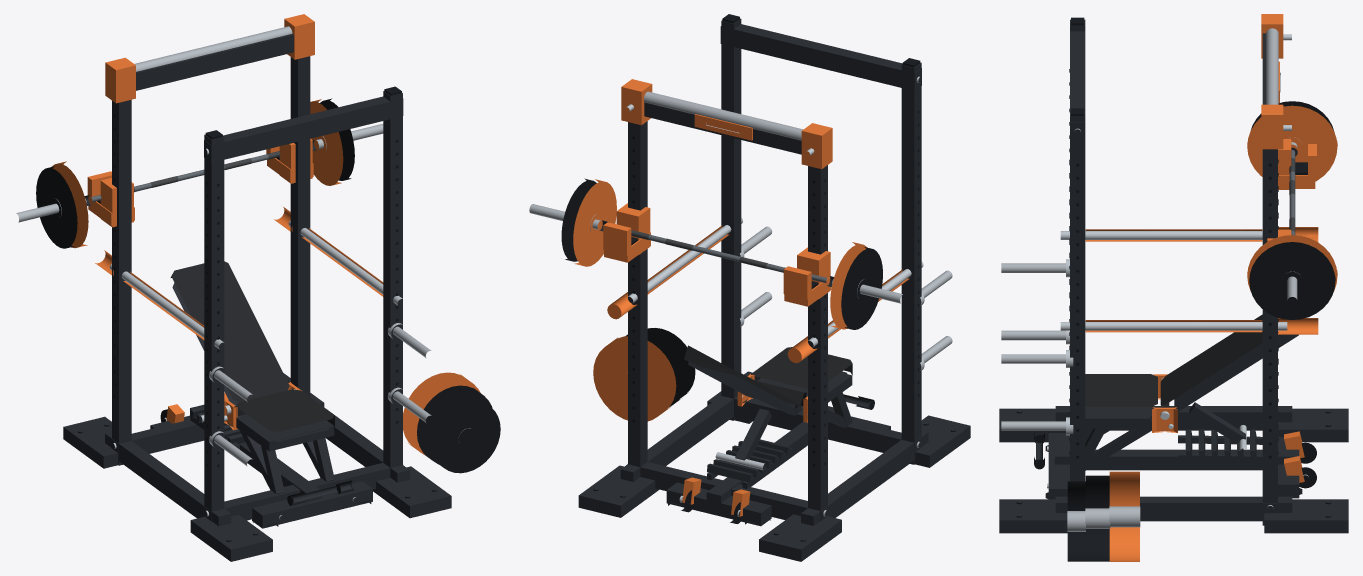
File: strength-station-composition.glb
The picture shows the model from 3 angles, left to right: view 1: azimuth 30°, elevation 25°; view 2: azimuth 150°, elevation 25°; view 3: azimuth 270°, elevation 25°; orthographic projection. The views are drawn at different scales.
Visible parts, largest first — view 1: Graphite powder coat parts, Safety orange parts, Black rubber and UHMW parts, Charcoal upholstery parts, Brushed steel parts, Zinc hardware parts; view 2: Graphite powder coat parts, Safety orange parts, Black rubber and UHMW parts, Brushed steel parts, Charcoal upholstery parts, Zinc hardware parts, Dark chrome shaft parts; view 3: Graphite powder coat parts, Safety orange parts, Black rubber and UHMW parts, Brushed steel parts, Charcoal upholstery parts, Zinc hardware parts.
Boxes of the visible parts, x1,y1,x2,y2 form: Graphite powder coat parts: [63, 33, 451, 561]; Safety orange parts: [51, 14, 480, 454]; Black rubber and UHMW parts: [36, 86, 500, 541]; Charcoal upholstery parts: [170, 261, 334, 431]; Brushed steel parts: [16, 26, 470, 466]; Zinc hardware parts: [110, 148, 402, 518]; Graphite powder coat parts: [578, 18, 970, 561]; Safety orange parts: [573, 79, 909, 516]; Black rubber and UHMW parts: [561, 14, 955, 541]; Brushed steel parts: [529, 91, 952, 372]; Charcoal upholstery parts: [684, 345, 852, 406]; Zinc hardware parts: [626, 76, 924, 516]; Dark chrome shaft parts: [648, 234, 827, 283]; Graphite powder coat parts: [999, 19, 1348, 533]; Safety orange parts: [1085, 14, 1337, 561]; Black rubber and UHMW parts: [1016, 17, 1335, 561]; Brushed steel parts: [1001, 28, 1301, 531]; Charcoal upholstery parts: [1085, 314, 1262, 407]; Zinc hardware parts: [1047, 34, 1308, 508].
Size of the model in its own units: 2.27 by 2.27 by 1.74.
